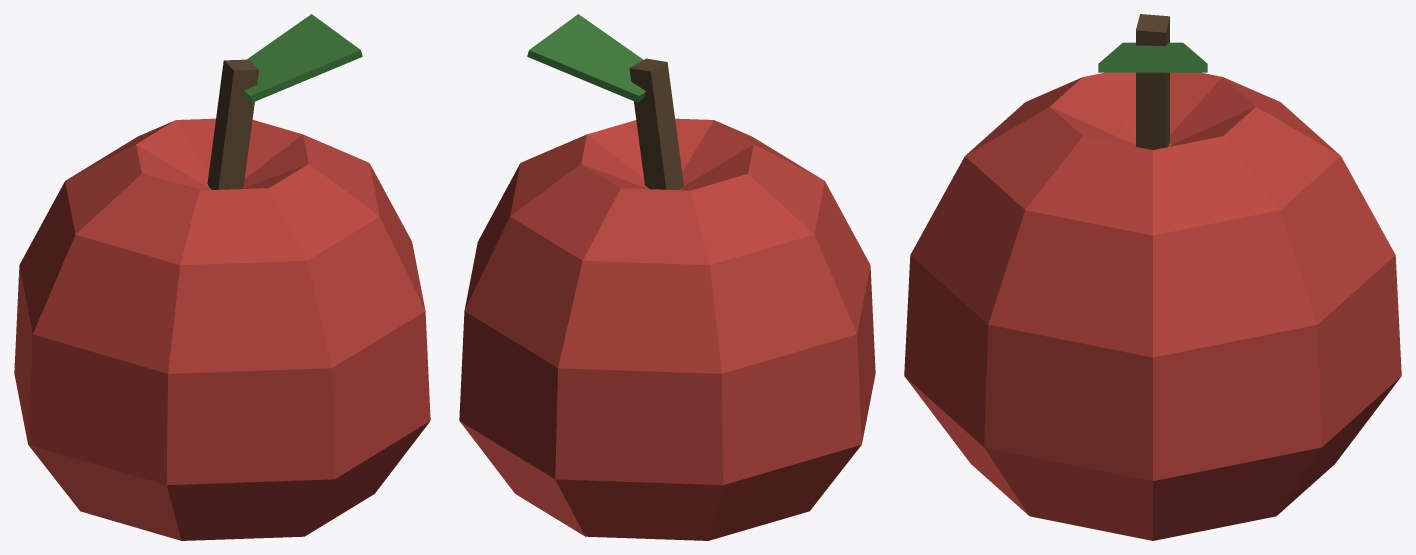
Rendered from FD_Apple_01.glb.
The picture shows the model from 3 angles, left to right: view 1: azimuth 30°, elevation 25°; view 2: azimuth 150°, elevation 25°; view 3: azimuth 270°, elevation 25°; orthographic projection. The views are drawn at different scales.
Parts seen in each view (by area): view 1: FD_Apple_01; view 2: FD_Apple_01; view 3: FD_Apple_01.
Boxes of the visible parts, x1,y1,x2,y2 form: FD_Apple_01: [14, 14, 430, 540]; FD_Apple_01: [459, 14, 875, 540]; FD_Apple_01: [904, 14, 1401, 540].
Bounding box in the file's own units: 0.082 × 0.09 × 0.082.
Materials: 1 (1 with a texture image).
